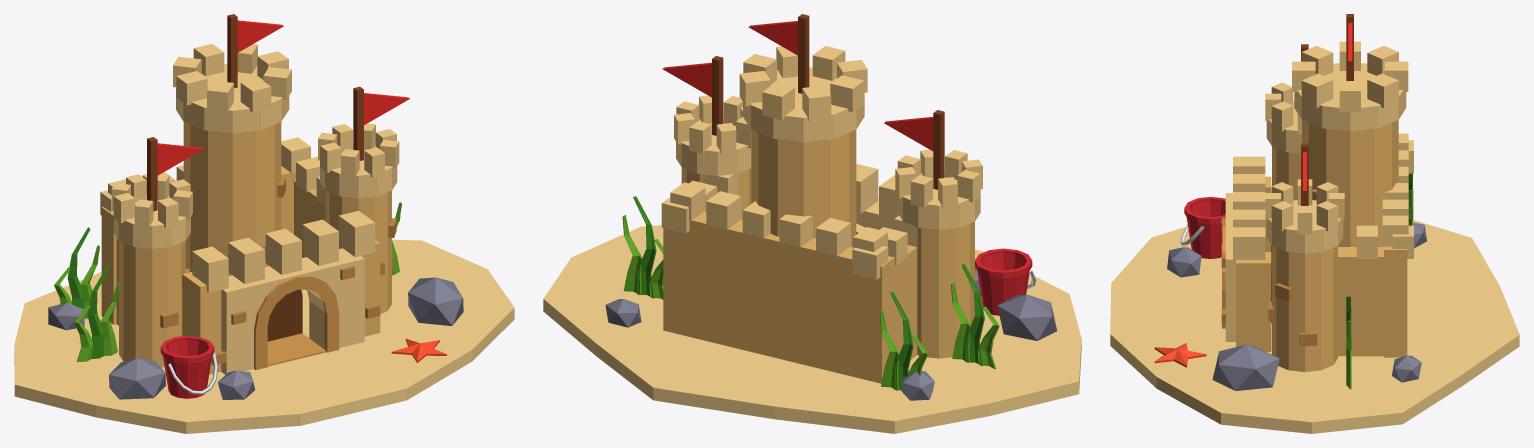
File: Sandcastle.glb
The picture shows the model from 3 angles, left to right: view 1: azimuth 30°, elevation 25°; view 2: azimuth 150°, elevation 25°; view 3: azimuth 270°, elevation 25°; orthographic projection. The views are drawn at different scales.
Parts seen in each view (by area): view 1: Sandcastle_SandLight, Sandcastle_Base, Sandcastle_Sand, Sandcastle_Rock, Sandcastle_Arch, Sandcastle_BucketRed, Sandcastle_FlagRed, Sandcastle_Wood, Sandcastle_SeaweedLight, Sandcastle_Seaweed, Sandcastle_Brick, Sandcastle_DoorShadow (+1 smaller); view 2: Sandcastle_Sand, Sandcastle_Base, Sandcastle_SandLight, Sandcastle_Rock, Sandcastle_SeaweedLight, Sandcastle_Seaweed, Sandcastle_FlagRed, Sandcastle_BucketRed, Sandcastle_Wood; view 3: Sandcastle_Base, Sandcastle_Sand, Sandcastle_SandLight, Sandcastle_Rock, Sandcastle_BucketRed, Sandcastle_Brick, Sandcastle_Wood, Sandcastle_Starfish, Sandcastle_SeaweedLight.
Boxes of the visible parts, left/top/right/bottom form: Sandcastle_SandLight: left=100, top=43, right=399, bottom=374; Sandcastle_Base: left=14, top=239, right=514, bottom=433; Sandcastle_Sand: left=101, top=122, right=391, bottom=374; Sandcastle_Rock: left=48, top=277, right=463, bottom=399; Sandcastle_Arch: left=254, top=275, right=339, bottom=370; Sandcastle_BucketRed: left=160, top=335, right=214, bottom=398; Sandcastle_FlagRed: left=157, top=20, right=409, bottom=175; Sandcastle_Wood: left=147, top=14, right=363, bottom=211; Sandcastle_SeaweedLight: left=54, top=202, right=401, bottom=362; Sandcastle_Seaweed: left=67, top=227, right=110, bottom=358; Sandcastle_Brick: left=160, top=177, right=396, bottom=364; Sandcastle_DoorShadow: left=267, top=289, right=302, bottom=341; Sandcastle_Sand: left=663, top=129, right=974, bottom=383; Sandcastle_Base: left=543, top=224, right=1081, bottom=433; Sandcastle_SandLight: left=661, top=46, right=982, bottom=279; Sandcastle_Rock: left=605, top=267, right=1057, bottom=400; Sandcastle_SeaweedLight: left=622, top=215, right=999, bottom=390; Sandcastle_Seaweed: left=633, top=196, right=984, bottom=390; Sandcastle_FlagRed: left=662, top=21, right=933, bottom=151; Sandcastle_BucketRed: left=975, top=248, right=1032, bottom=315; Sandcastle_Wood: left=712, top=14, right=944, bottom=189; Sandcastle_Base: left=1110, top=220, right=1519, bottom=433; Sandcastle_Sand: left=1236, top=120, right=1407, bottom=371; Sandcastle_SandLight: left=1225, top=41, right=1413, bottom=341; Sandcastle_Rock: left=1167, top=222, right=1426, bottom=390; Sandcastle_BucketRed: left=1184, top=196, right=1225, bottom=258; Sandcastle_Brick: left=1221, top=189, right=1317, bottom=346; Sandcastle_Wood: left=1301, top=14, right=1353, bottom=205; Sandcastle_Starfish: left=1154, top=343, right=1206, bottom=367; Sandcastle_SeaweedLight: left=1346, top=190, right=1413, bottom=389.
Size of the model in its own units: 9.17 by 5.73 by 6.96.
1 material, 1 textured.
